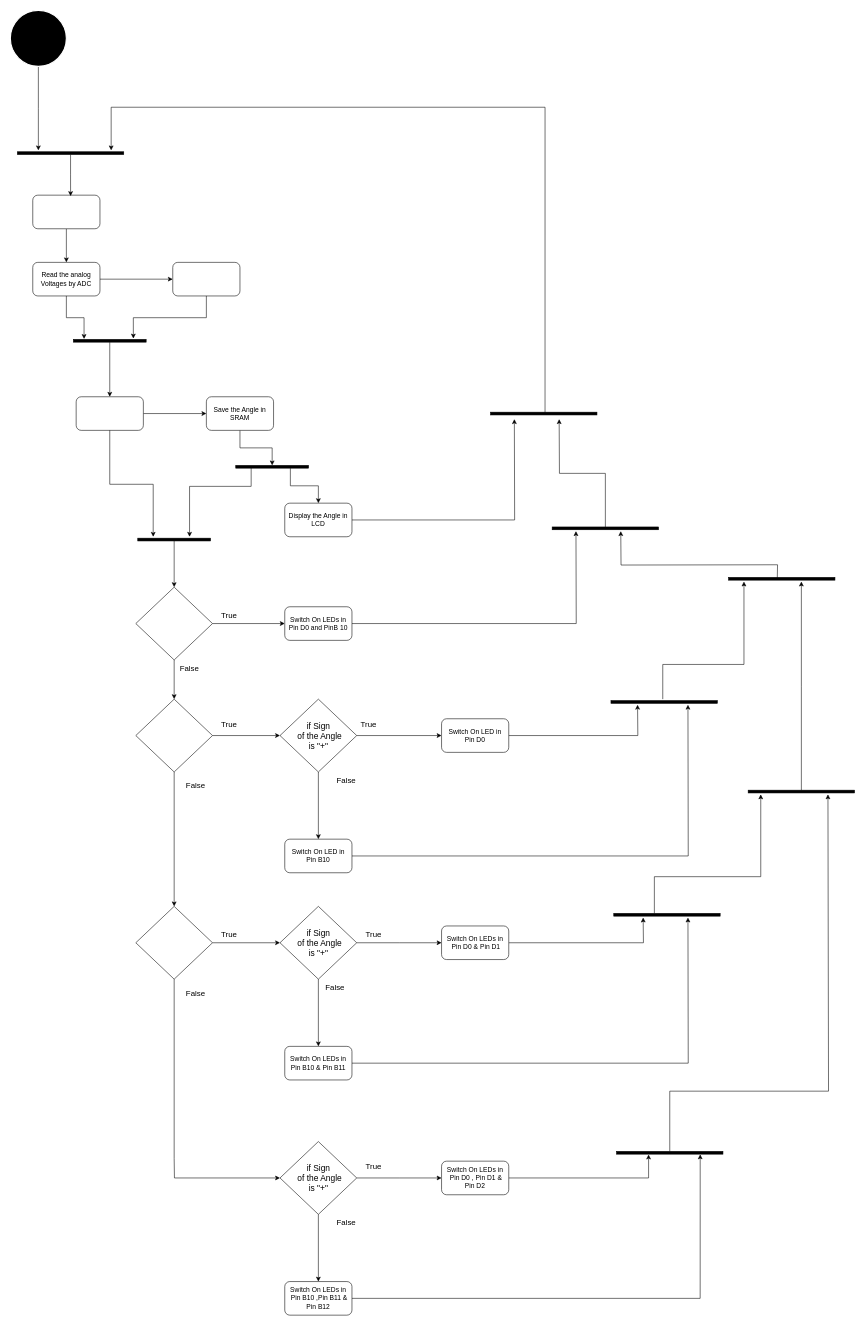
The diagram is 864 pixels wide and 1325 high, and some of its shapes have lost their labels. Each missing label, with the centre of its shape:
"-5<Angle<+5" goes at point (174, 623).
"40<|Angle|<70" goes at point (174, 942).
"5<|Angle|<40" goes at point (174, 735).
"Get the Angle by Calculation" goes at point (109, 413).
"Reciving the Relavant voltages from sensor" goes at point (66, 212).
"Save the Readings in SRAM" goes at point (206, 279).
